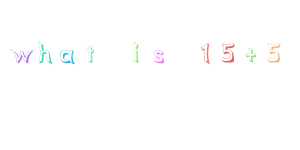+: (244, 47, 257, 63)
1: (199, 40, 212, 65)
5: (220, 41, 236, 64), (266, 41, 282, 64)
a: (59, 48, 75, 64)
h: (37, 40, 52, 64)
i: (130, 41, 141, 64)
s: (151, 48, 166, 64)
t: (85, 44, 95, 63)
w: (9, 47, 33, 64)
